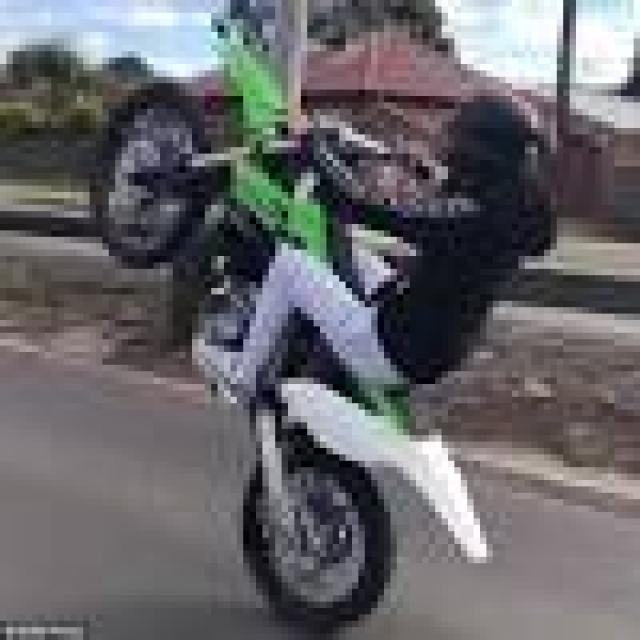Wheeling: (102, 34, 556, 623)
